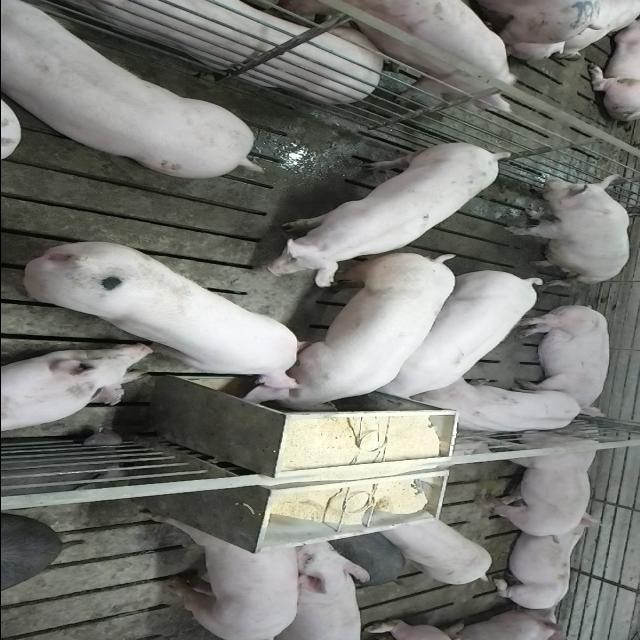Feeding: (19, 239, 307, 390), (241, 254, 463, 420)
Lateral_lying: (32, 0, 380, 102), (512, 302, 612, 418)
Sitting: (502, 174, 632, 286)
Standing: (1, 0, 259, 176), (252, 140, 510, 286), (280, 0, 518, 113), (372, 264, 547, 398), (143, 514, 299, 639), (465, 420, 603, 541), (218, 537, 366, 640), (378, 514, 491, 588)
Sternal_lying: (0, 346, 153, 433), (487, 520, 607, 612), (412, 378, 588, 437)
